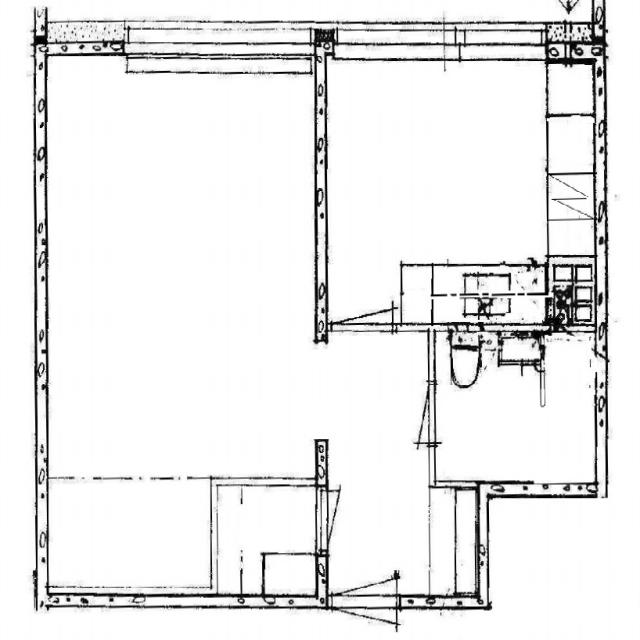door: (331, 513, 396, 607), (331, 248, 392, 332), (316, 492, 374, 550), (381, 382, 434, 442)
